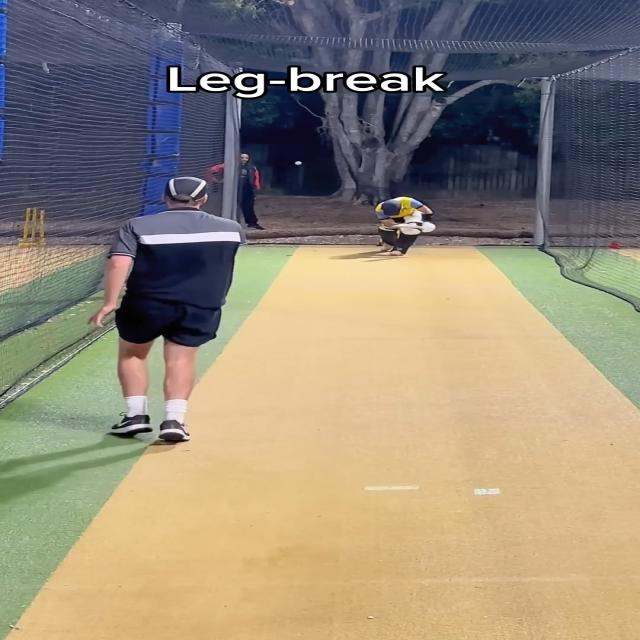Cricket ball: (294, 161, 302, 165)
